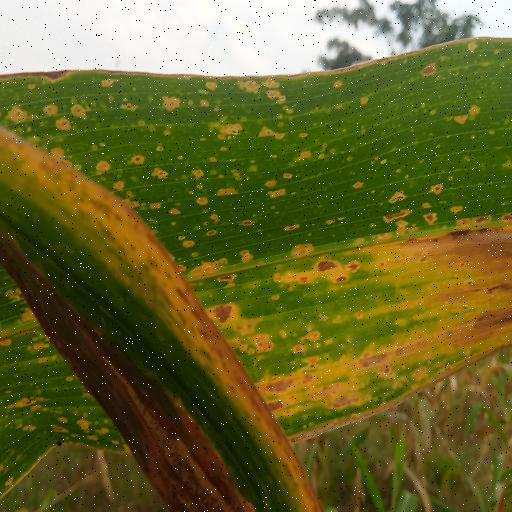Corn_Yellow_Spots: (0, 33, 512, 503)
